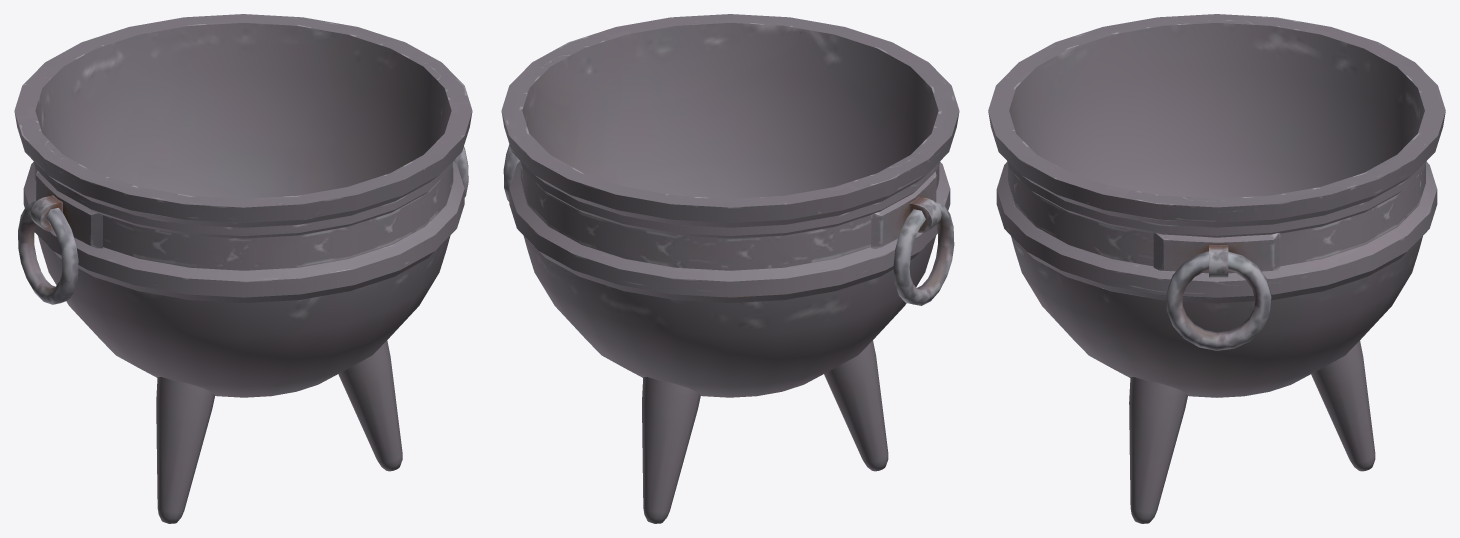
File: prop_cauldron.glb
3 renders of one model, left to right at view 1: azimuth 30°, elevation 25°; view 2: azimuth 150°, elevation 25°; view 3: azimuth 270°, elevation 25°, orthographic.
Visible parts, largest first — view 1: Cauldron; view 2: Cauldron; view 3: Cauldron.
Part boxes in pixels (box(x1,y1,x2,y2)): Cauldron: box(14, 14, 472, 523); Cauldron: box(501, 14, 959, 523); Cauldron: box(988, 14, 1445, 523).
Bounding box in the file's own units: 0.9891 × 0.8155 × 0.944.
1 material, 1 textured.
